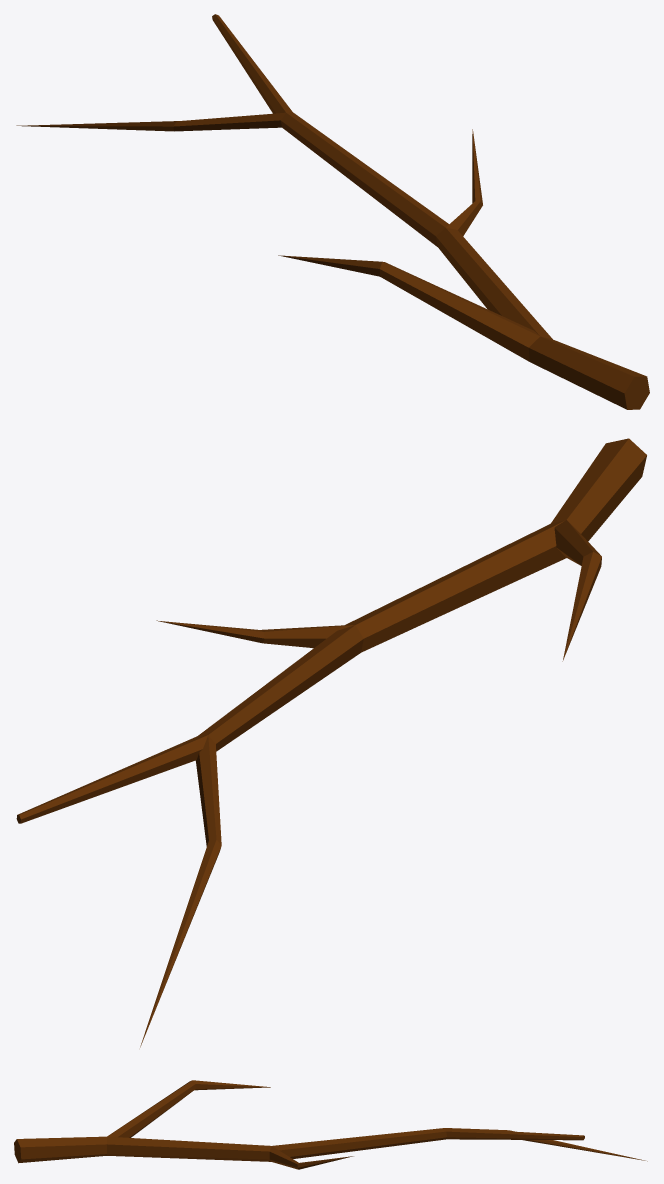
Rendered from branch.FBX.
The picture shows the model from 3 angles, top to bottom: view 1: azimuth 30°, elevation 25°; view 2: azimuth 150°, elevation 25°; view 3: azimuth 270°, elevation 25°; orthographic projection. The views are drawn at different scales.
Visible parts, largest first — view 1: Branch_5; view 2: Branch_5; view 3: Branch_5.
Boxes of the visible parts, x1=… form: Branch_5: x1=16, y1=14, x2=649, y2=409; Branch_5: x1=16, y1=438, x2=646, y2=1047; Branch_5: x1=14, y1=1080, x2=647, y2=1169.
Size of the model in its own units: 33.13 by 15.97 by 112.
